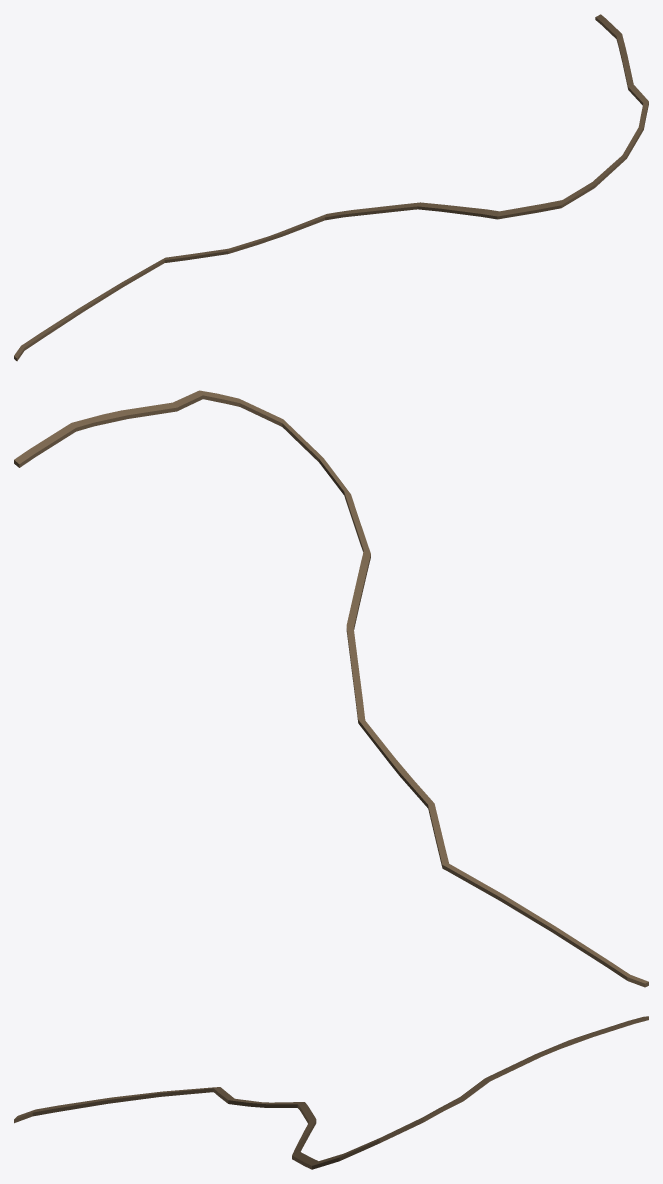
3 renders of one model, top to bottom at view 1: azimuth 30°, elevation 25°; view 2: azimuth 150°, elevation 25°; view 3: azimuth 330°, elevation 25°, orthographic. The views are drawn at different scales.
Bounding box in the file's own units: 132 × 59.75 × 71.56.
